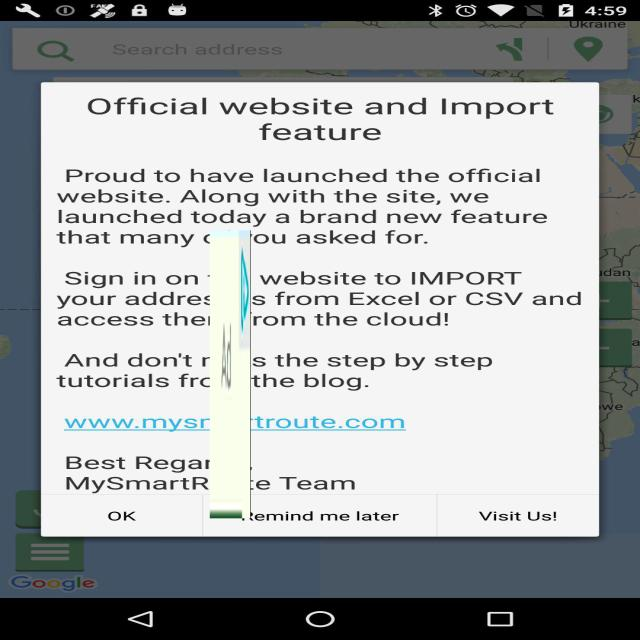sneaking: (210, 231, 250, 518)
